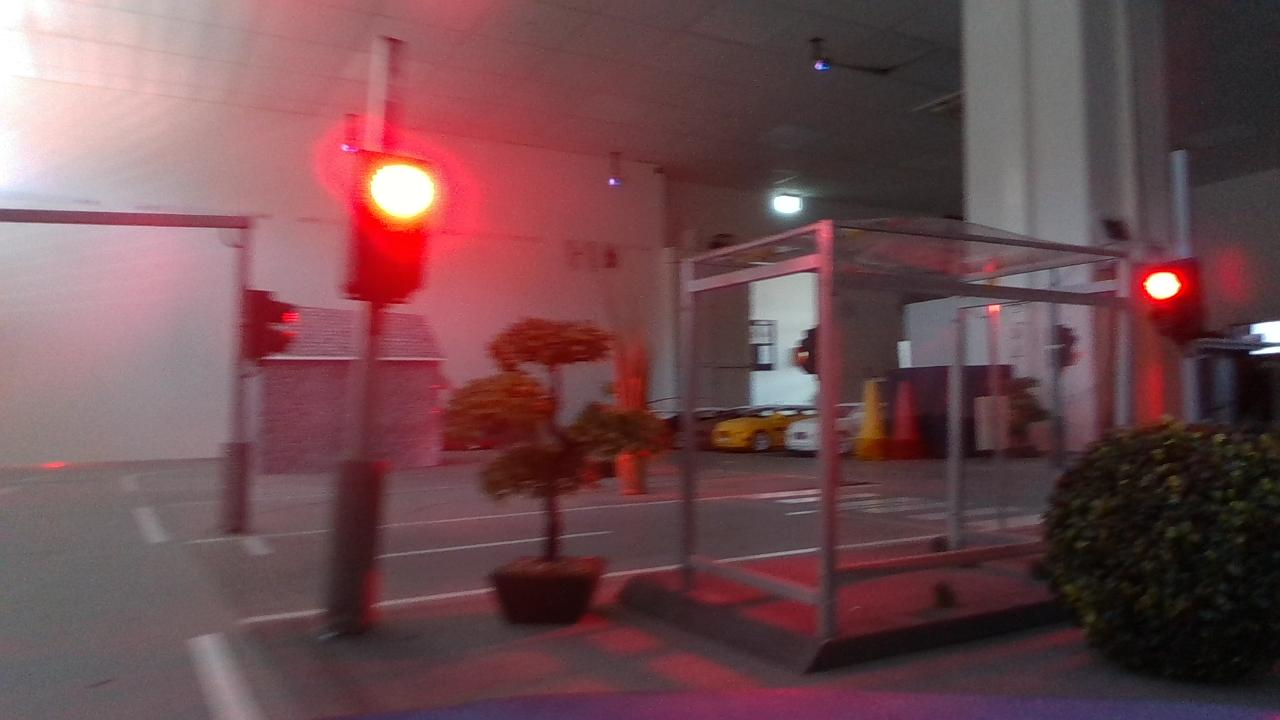traffic_light_red: (319, 130, 449, 317)
